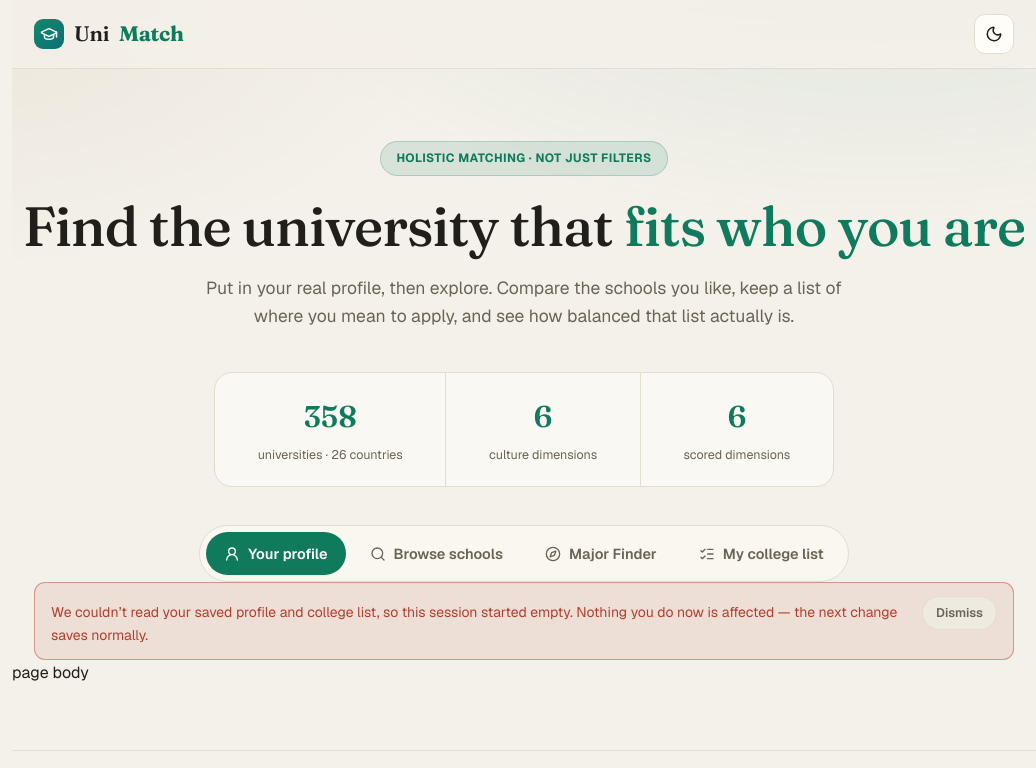
Test: AppShell › lets the notice be dismissed
Step 1. Click the button "Dismiss" → click(960, 614), box 922,596 -> 997,630
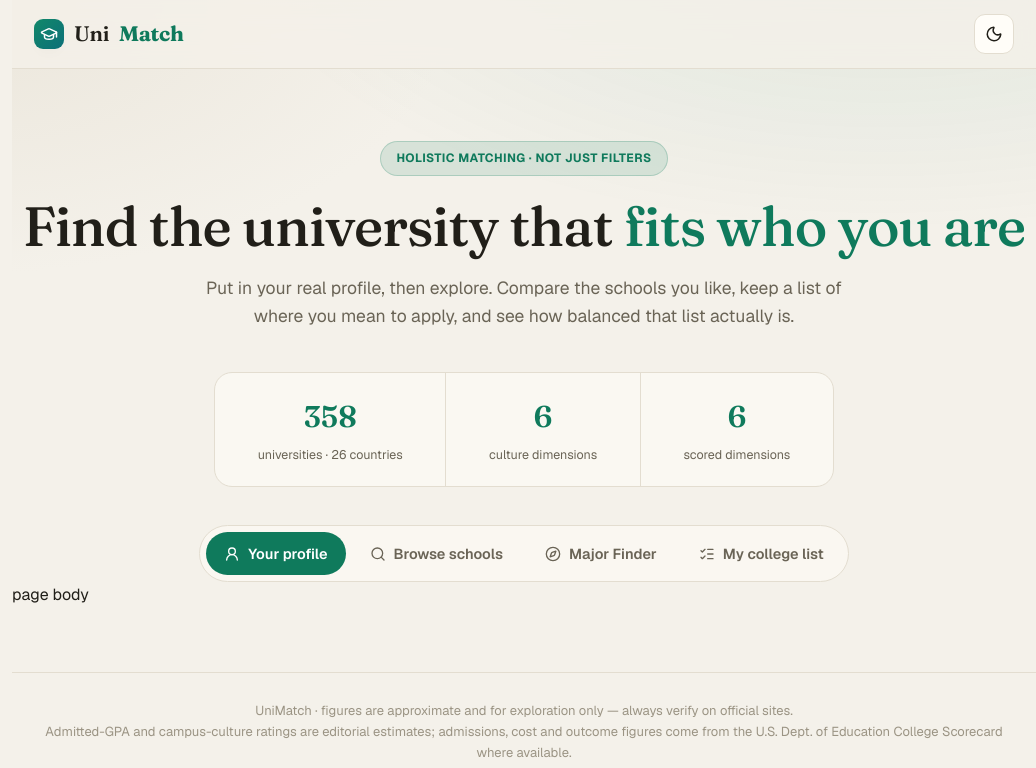
Check: the text "couldn.t read your saved profile" is gone
